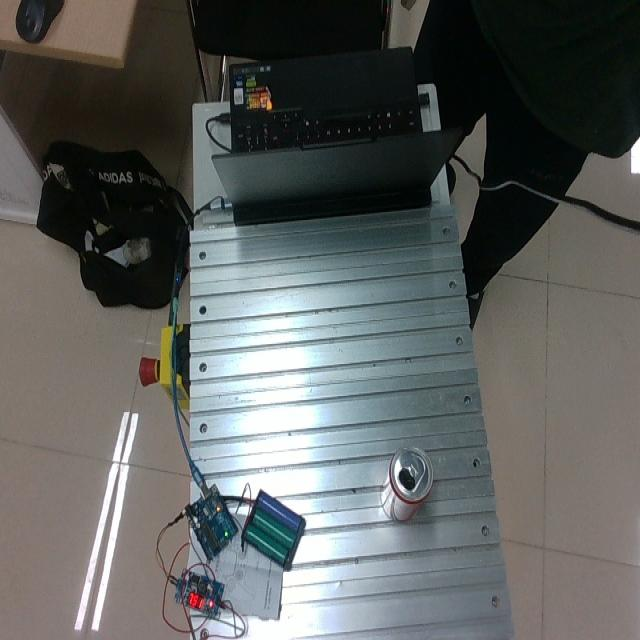coca: (380, 445, 433, 520)
